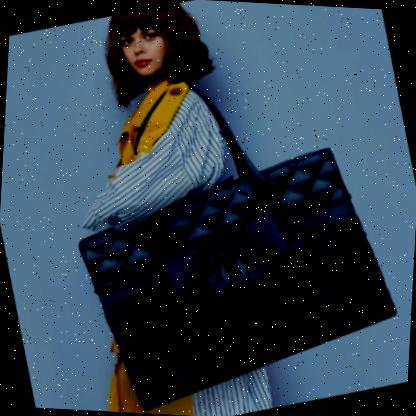bag: (64, 129, 411, 416)
person: (68, 1, 297, 416)
